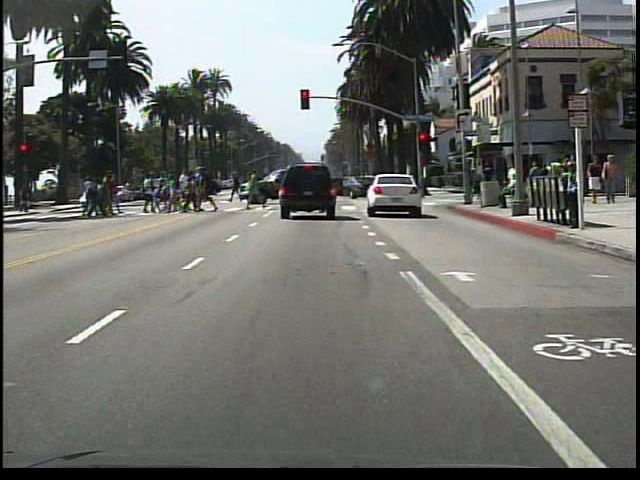person: (558, 156, 579, 235), (601, 153, 619, 209), (585, 154, 605, 203)
